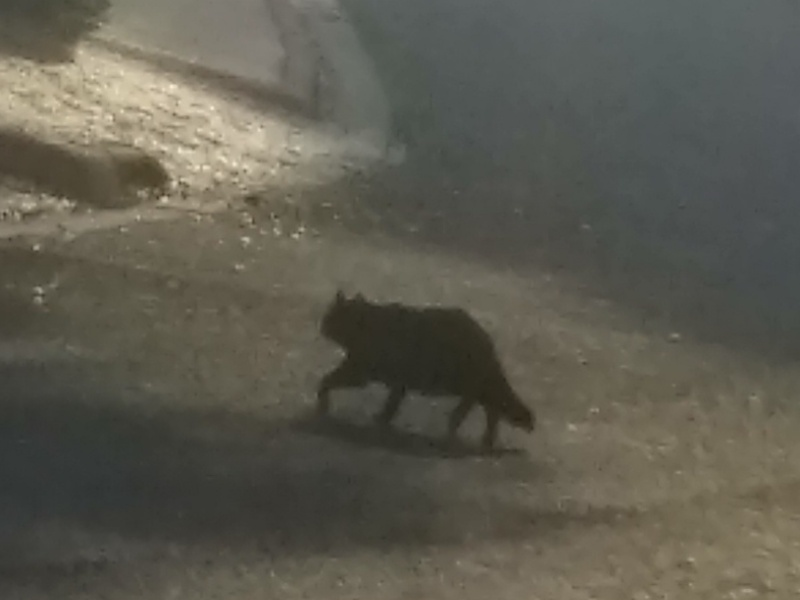cat: (307, 287, 539, 456)
